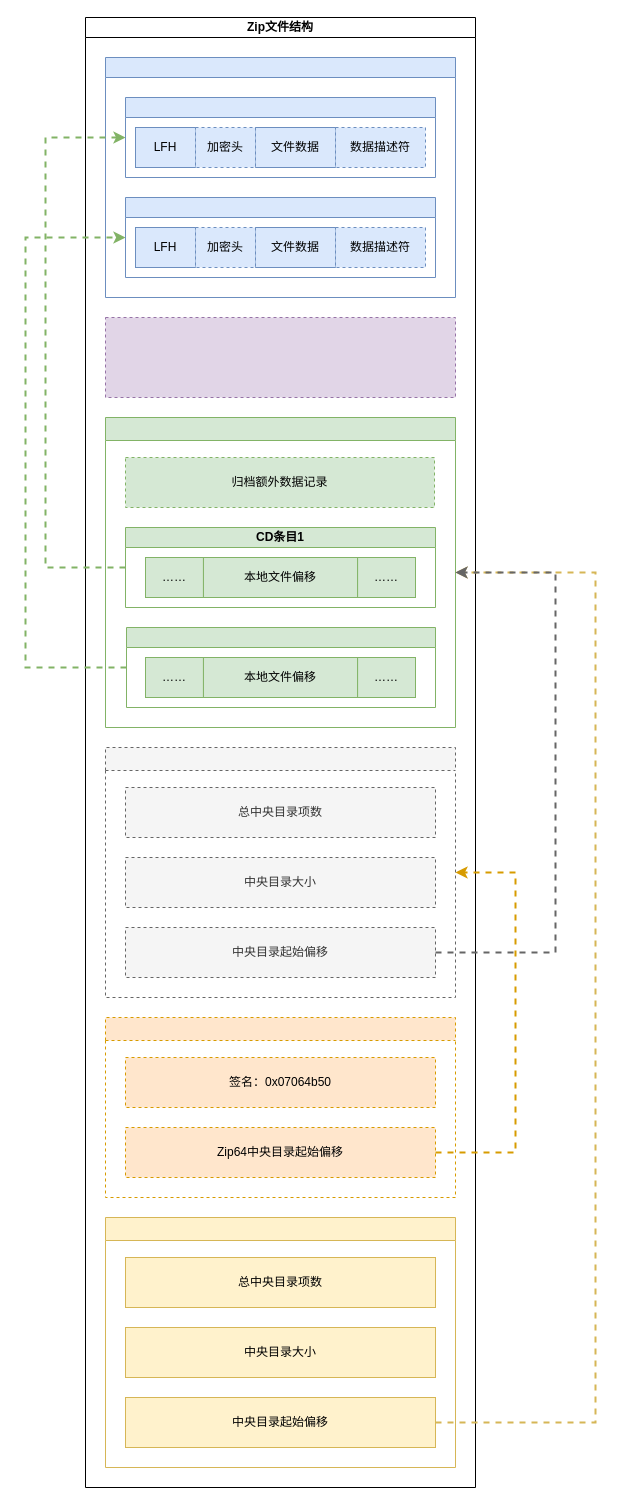
The diagram is 621 pixels wide and 1505 high, and some of its shapes have lost their labels. Each missing label, with the box of its shape:
CD条目n: (126, 626, 436, 708)
ZIP64 EOCDR: (104, 746, 456, 998)
ZIP64 EOCDR Locator: (104, 1016, 456, 1198)
中央目录区: (104, 416, 456, 728)
中央目录结束记录: (104, 1216, 456, 1468)
归档解密头: (104, 316, 456, 398)
文件1: (124, 96, 436, 178)
文件n: (124, 196, 436, 278)
文件数据区: (104, 56, 456, 298)
